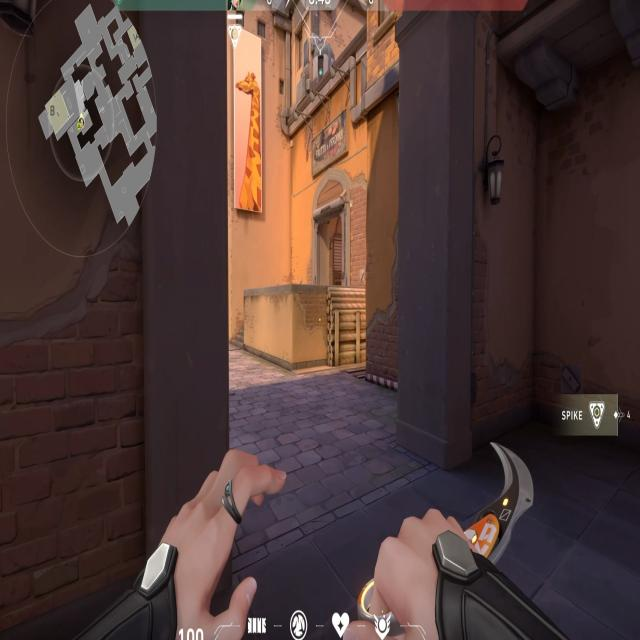B_Cubby: (286, 283, 366, 366)
